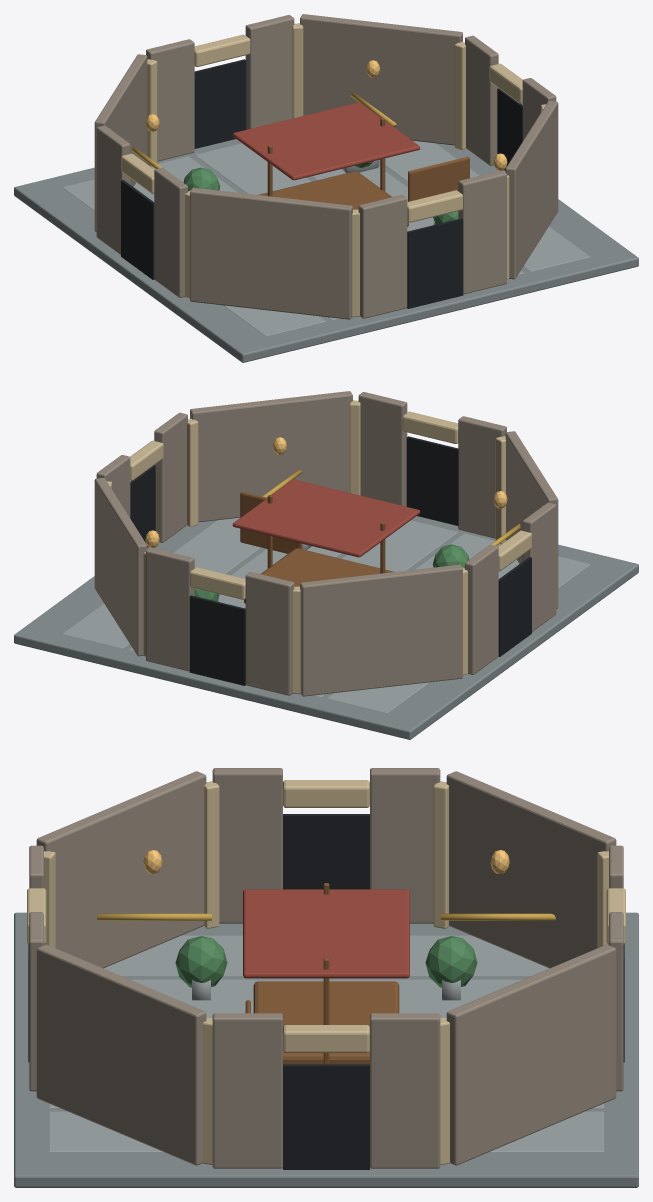
The model's file is pendelhaven_square_4165.glb.
3 views of the same model, one above another, from view 1: azimuth 30°, elevation 25°; view 2: azimuth 150°, elevation 25°; view 3: azimuth 270°, elevation 25° (orthographic). The views are drawn at different scales.
Visible parts, largest first — view 1: SW solid wall, Room floor, NE solid wall, Stage canopy, SE solid wall, S doorway right, S doorway left, N doorway right, N doorway left, S passage shadow, N passage shadow, W doorway left (+23 smaller); view 2: NW solid wall, Room floor, SE solid wall, Stage canopy, NE solid wall, N doorway left, N doorway right, S doorway left, S doorway right, N passage shadow, Plaza paving.004, S passage shadow (+23 smaller); view 3: Room floor, NE solid wall, SE solid wall, NW solid wall, SW solid wall, Stage canopy, E doorway left, E doorway right, E passage shadow, W doorway left, W doorway right, W passage shadow (+22 smaller).
Boxes of the visible parts, x1,y1,x2,y2 form: SW solid wall: [190, 187, 352, 319]; Room floor: [14, 139, 638, 362]; NE solid wall: [300, 14, 462, 145]; Stage canopy: [232, 102, 420, 180]; SE solid wall: [505, 101, 558, 279]; S doorway right: [358, 195, 407, 318]; S doorway left: [458, 170, 506, 294]; N doorway right: [245, 15, 294, 129]; N doorway left: [146, 39, 194, 161]; S passage shadow: [407, 218, 463, 308]; N passage shadow: [194, 59, 246, 148]; W doorway left: [154, 167, 187, 297]; NW solid wall: [300, 564, 462, 696]; Room floor: [14, 516, 638, 739]; SE solid wall: [190, 391, 352, 522]; Stage canopy: [232, 479, 420, 557]; NE solid wall: [94, 478, 147, 656]; N doorway left: [245, 572, 294, 695]; N doorway right: [146, 547, 194, 671]; S doorway left: [358, 392, 407, 506]; S doorway right: [458, 416, 506, 538]; N passage shadow: [189, 595, 245, 685]; Plaza paving.004: [62, 517, 260, 648]; S passage shadow: [406, 436, 458, 525]; Room floor: [14, 912, 638, 1187]; NE solid wall: [446, 944, 616, 1165]; SE solid wall: [36, 944, 206, 1165]; NW solid wall: [446, 771, 616, 968]; SW solid wall: [36, 771, 206, 968]; Stage canopy: [243, 889, 409, 978]; E doorway left: [370, 1013, 440, 1168]; E doorway right: [212, 1013, 282, 1168]; E passage shadow: [283, 1064, 369, 1169]; W doorway left: [212, 768, 282, 923]; W doorway right: [370, 768, 440, 923]; W passage shadow: [283, 814, 369, 889].
Bounding box in the file's own units: 18 × 5.24 × 18.
